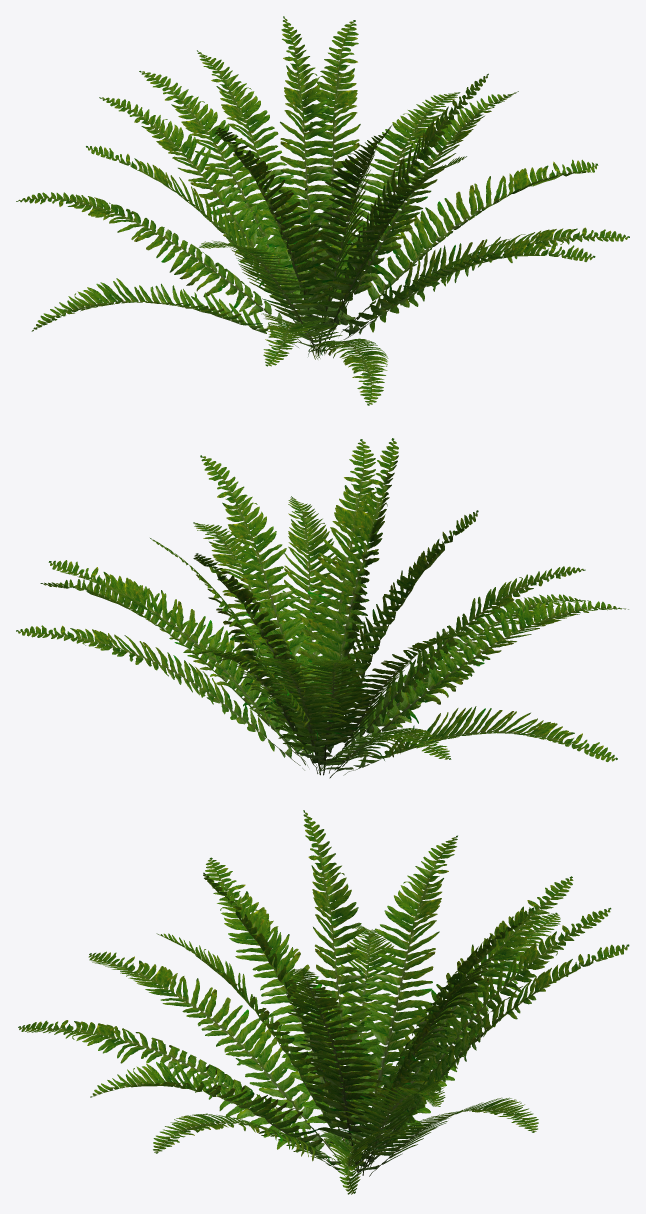
Rendered from plantes3.fbx.
3 renders of one model, top to bottom at view 1: azimuth 30°, elevation 25°; view 2: azimuth 150°, elevation 25°; view 3: azimuth 270°, elevation 25°, orthographic. The views are drawn at different scales.
Parts seen in each view (by area): view 1: Plant_AAW; view 2: Plant_AAW; view 3: Plant_AAW.
Boxes of the visible parts, bbox=[...] form: Plant_AAW: bbox=[16, 16, 629, 405]; Plant_AAW: bbox=[16, 438, 628, 778]; Plant_AAW: bbox=[18, 810, 629, 1194].
Bounding box in the file's own units: 1.98 × 0.9148 × 1.7.
1 material, 1 textured.
